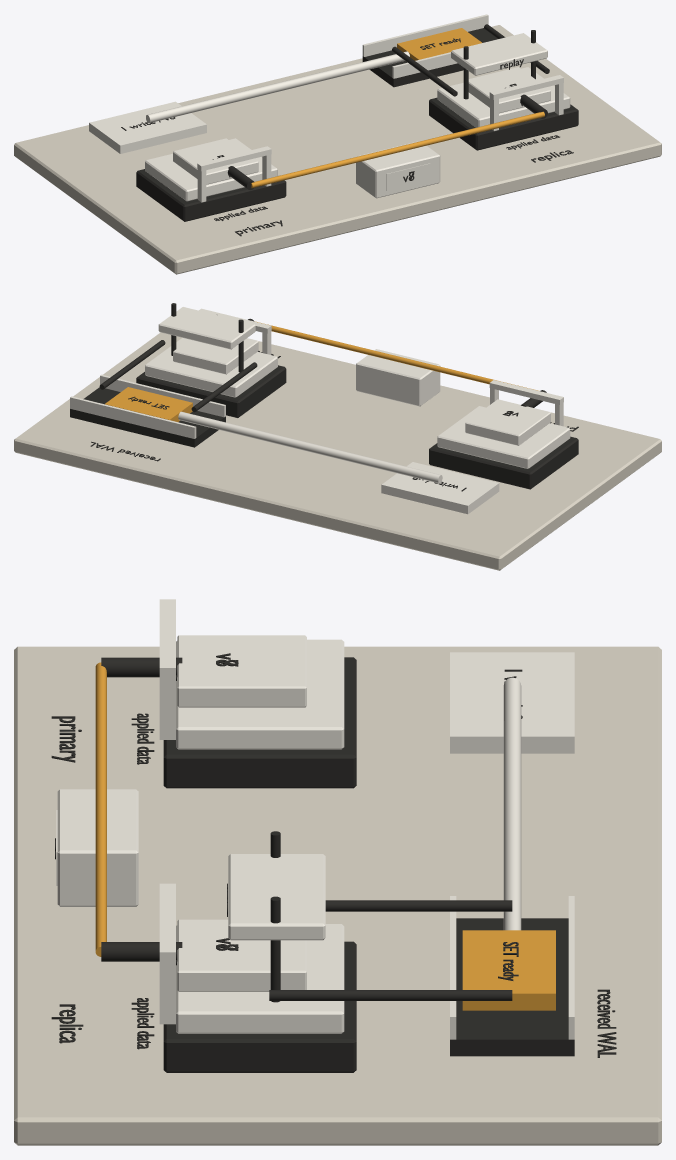
3 renders of one model, top to bottom at view 1: azimuth 30°, elevation 25°; view 2: azimuth 150°, elevation 25°; view 3: azimuth 270°, elevation 25°, orthographic. The views are drawn at different scales.
Parts seen in each view (by area): view 1: Plinth, Receipt, Primary_DataBed, Replica_DataBed, Reader, WALTransfer, ReplayPress, Primary_Data, Replica_Data, Primary_v7, Replica_v7, LogRecord (+9 smaller); view 2: Plinth, Receipt, Primary_Data, Reader, Primary_DataBed, Replica_Data, Primary_v7, WALTransfer, ReplayPress, Replica_DataBed, LogChannel, Replica_v7 (+8 smaller); view 3: Plinth, Receipt, Primary_Data, Primary_v7, Primary_DataBed, Replica_DataBed, Replica_Data, Reader, LogChannel, ReplayPress, Replica_v7, LogRecord (+14 smaller).
Boxes of the visible parts, box(x1,y1,x2,y2) form: Plinth: box(14, 25, 661, 274); Receipt: box(89, 101, 206, 153); Primary_DataBed: box(136, 169, 286, 221); Replica_DataBed: box(429, 97, 578, 150); Reader: box(356, 141, 440, 198); WALTransfer: box(146, 51, 409, 123); ReplayPress: box(451, 33, 547, 75); Primary_Data: box(145, 138, 277, 201); Replica_Data: box(437, 67, 570, 127); Primary_v7: box(173, 138, 258, 184); Replica_v7: box(468, 67, 550, 113); LogRecord: box(397, 28, 481, 60); Plinth: box(14, 332, 661, 570); Receipt: box(381, 462, 499, 514); Primary_Data: box(437, 406, 570, 468); Reader: box(356, 349, 440, 406); Primary_DataBed: box(429, 436, 578, 489); Replica_Data: box(145, 337, 277, 397); Primary_v7: box(465, 399, 550, 445); WALTransfer: box(178, 411, 442, 483); ReplayPress: box(158, 307, 255, 349); Replica_DataBed: box(136, 365, 286, 417); LogChannel: box(70, 387, 225, 447); Replica_v7: box(173, 338, 258, 374); Plinth: box(14, 646, 661, 1145); Receipt: box(450, 652, 574, 753); Primary_Data: box(176, 639, 344, 749); Primary_v7: box(177, 635, 306, 707); Primary_DataBed: box(163, 657, 356, 788); Replica_DataBed: box(163, 941, 356, 1072); Replica_Data: box(176, 924, 344, 1033); Reader: box(57, 789, 138, 906); LogChannel: box(450, 918, 574, 1056); ReplayPress: box(228, 854, 325, 940); Replica_v7: box(177, 919, 306, 991); LogRecord: box(462, 930, 555, 1010).
Size of the model in its own units: 9 by 1.65 by 5.2.
